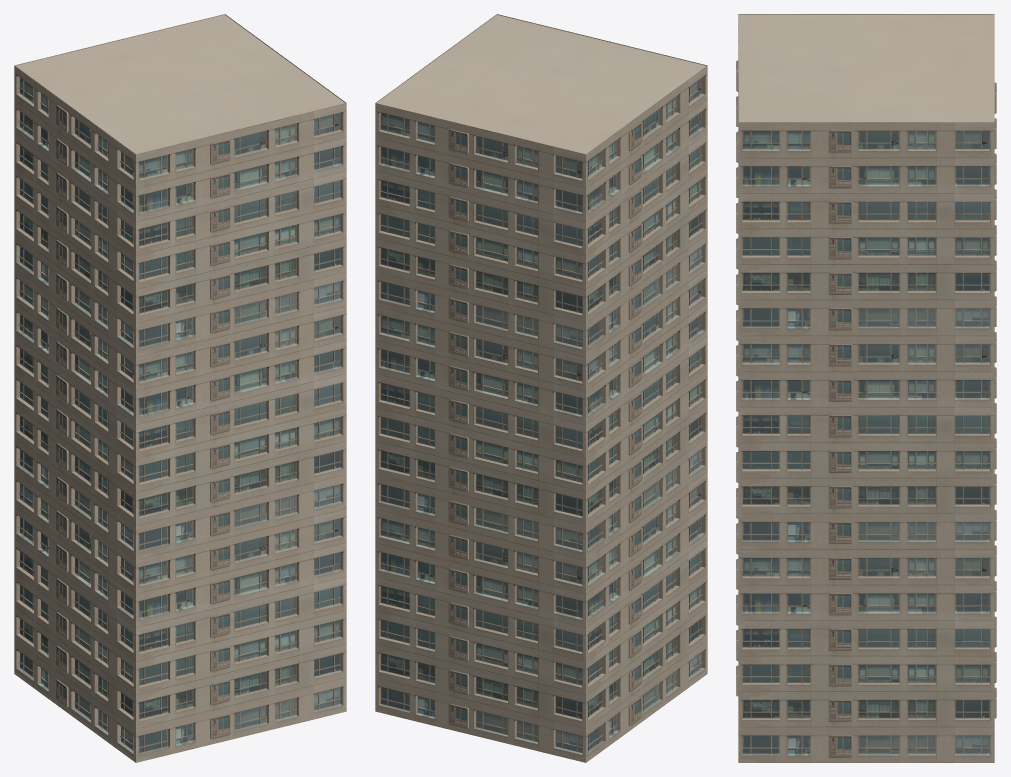
The model's file is buildingsix.glb.
3 renders of one model, left to right at view 1: azimuth 30°, elevation 25°; view 2: azimuth 150°, elevation 25°; view 3: azimuth 270°, elevation 25°, orthographic. The views are drawn at different scales.
Parts seen in each view (by area): view 1: Plane.001_0; view 2: Plane.001_0; view 3: Plane.001_0.
Boxes of the visible parts, bbox=[...] form: Plane.001_0: bbox=[14, 14, 346, 762]; Plane.001_0: bbox=[375, 14, 707, 762]; Plane.001_0: bbox=[736, 14, 996, 762].
Bounding box in the file's own units: 1.1 × 3 × 1.1.
Materials: 2 (2 with a texture image).
